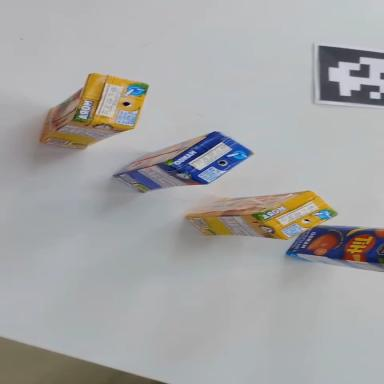HIT-MANGO: (110, 127, 255, 196), (286, 224, 384, 272)
HIT-MORA: (39, 63, 149, 164), (185, 190, 338, 245)
cara_F: (28, 69, 102, 150), (109, 133, 217, 175), (286, 223, 384, 263), (188, 191, 309, 215)
